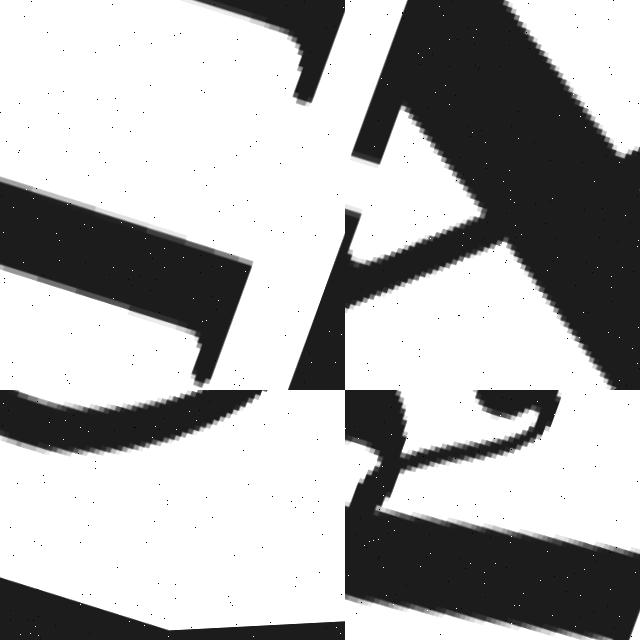D: (0, 390, 345, 601)
K: (345, 390, 640, 640)
U: (0, 0, 345, 390)
X: (345, 0, 640, 390)
